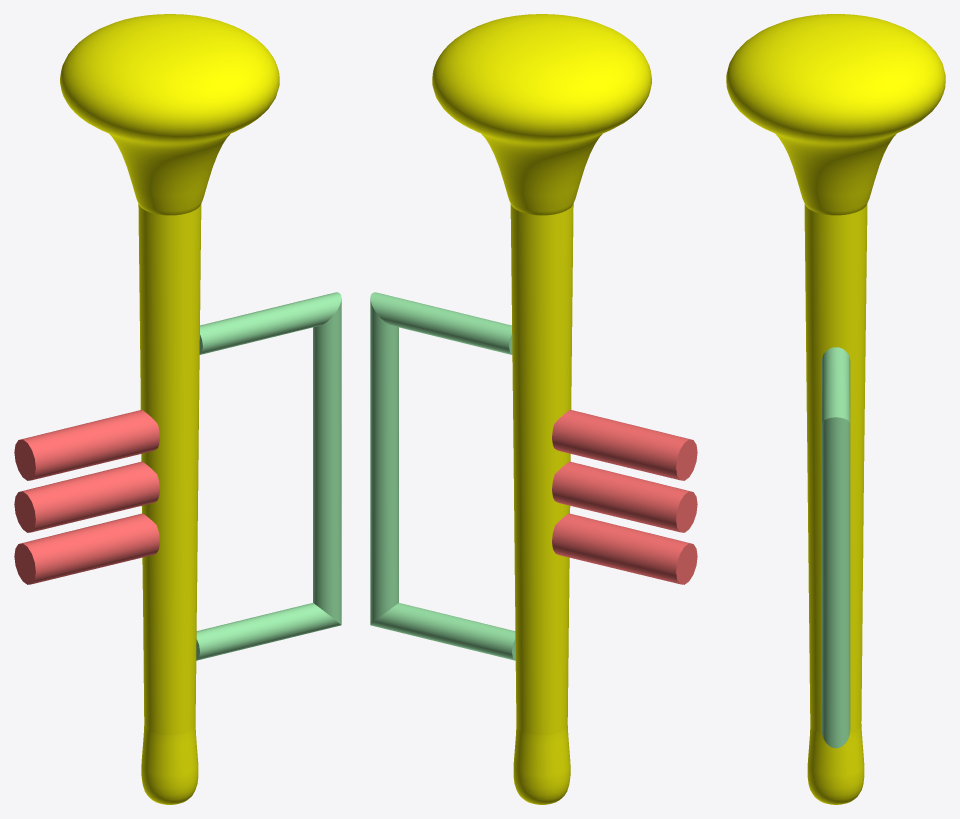
File: Horn.fbx
3 renders of one model, left to right at view 1: azimuth 30°, elevation 25°; view 2: azimuth 150°, elevation 25°; view 3: azimuth 270°, elevation 25°, orthographic.
Parts seen in each view (by area): view 1: Clown Horn; view 2: Clown Horn; view 3: Clown Horn.
Boxes of the visible parts, x1,y1,x2,y2 form: Clown Horn: (14, 14, 341, 804); Clown Horn: (370, 14, 697, 804); Clown Horn: (726, 14, 945, 804).
Size of the model in its own units: 12.66 by 29.43 by 7.66.
